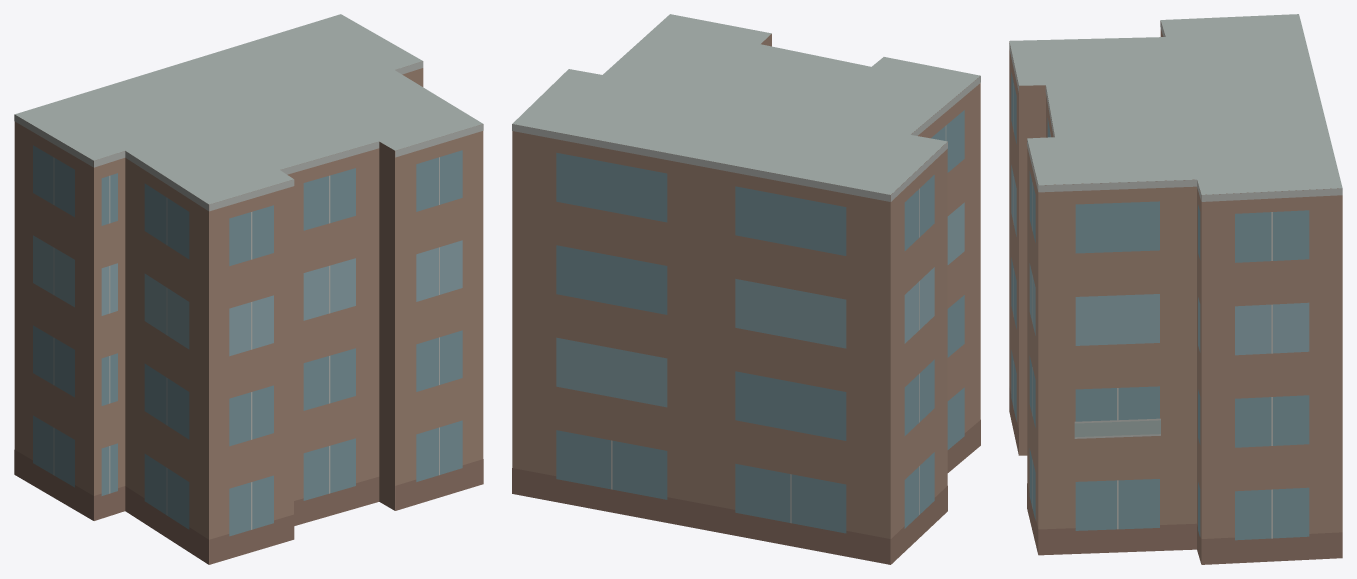
Rendered from survey-upis-32653493.glb.
3 renders of one model, left to right at view 1: azimuth 30°, elevation 25°; view 2: azimuth 150°, elevation 25°; view 3: azimuth 270°, elevation 25°, orthographic. The views are drawn at different scales.
Visible parts, largest first — view 1: survey-upis-32653493.tmp; view 2: survey-upis-32653493.tmp; view 3: survey-upis-32653493.tmp.
Part boxes in pixels (x1,y1,x2,y2): survey-upis-32653493.tmp: [14, 14, 483, 564]; survey-upis-32653493.tmp: [512, 14, 980, 564]; survey-upis-32653493.tmp: [1009, 14, 1342, 564].
Bounding box in the file's own units: 13.44 × 12.8 × 10.46.
